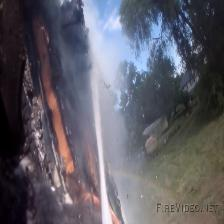smoke: (26, 0, 125, 224)
